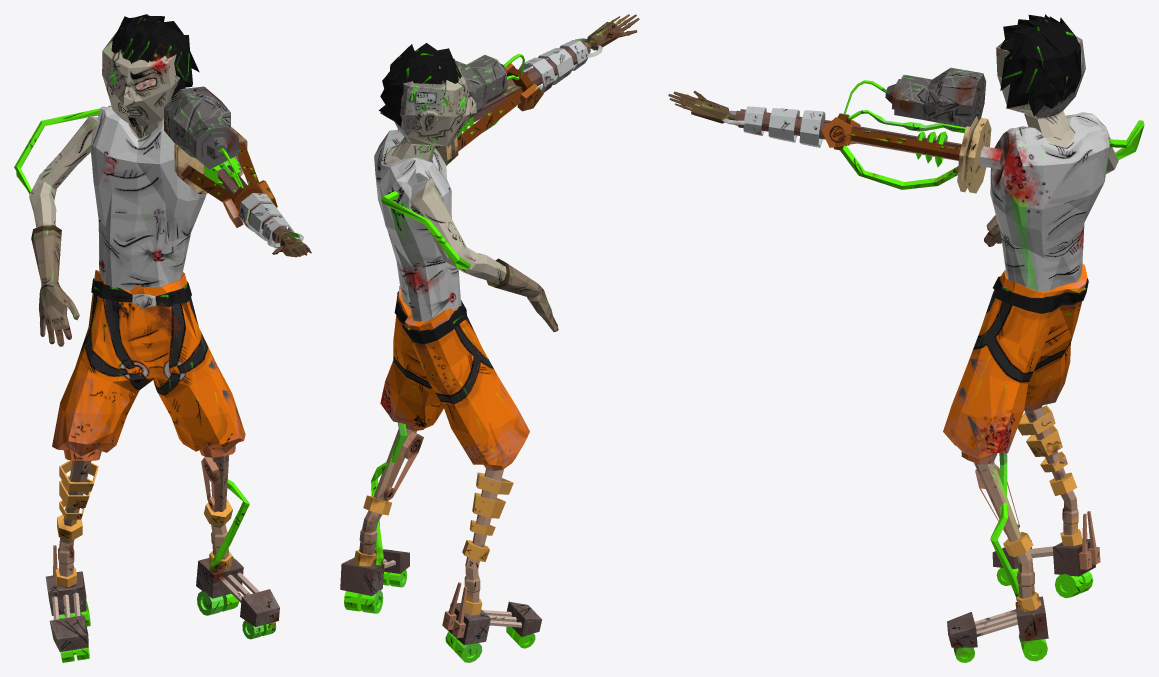
The model's file is CyborgFINALAnimation_000113.obj.
The picture shows the model from 3 angles, left to right: view 1: azimuth 30°, elevation 25°; view 2: azimuth 150°, elevation 25°; view 3: azimuth 270°, elevation 25°; orthographic projection. The views are drawn at different scales.
Visible parts, largest first — view 1: CyborgMesh_Cube.002; view 2: CyborgMesh_Cube.002; view 3: CyborgMesh_Cube.002.
Boxes of the visible parts, x1,y1,x2,y2 form: CyborgMesh_Cube.002: [14, 14, 311, 662]; CyborgMesh_Cube.002: [340, 14, 639, 662]; CyborgMesh_Cube.002: [668, 14, 1144, 662].
Size of the model in its own units: 3.47 by 9.59 by 6.8.
